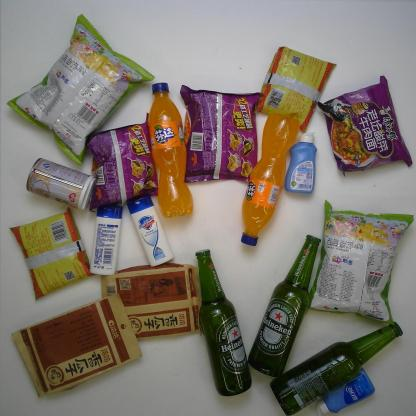Alcohol: (268, 319, 407, 416), (243, 230, 327, 383), (194, 245, 252, 397)
Canned Food: (22, 154, 100, 213)
Dried Food: (10, 291, 142, 402), (96, 254, 214, 346)
Drink: (237, 108, 304, 248), (146, 81, 195, 222)
Instant Noodles: (313, 71, 414, 180), (174, 80, 270, 187), (76, 111, 166, 215)
Personal Hygiene: (126, 192, 174, 270), (315, 362, 376, 416), (87, 200, 126, 280), (283, 129, 320, 197)
Puffed Food: (6, 10, 159, 167), (304, 196, 415, 330)
Seasoner: (6, 208, 96, 303), (256, 46, 340, 134)
